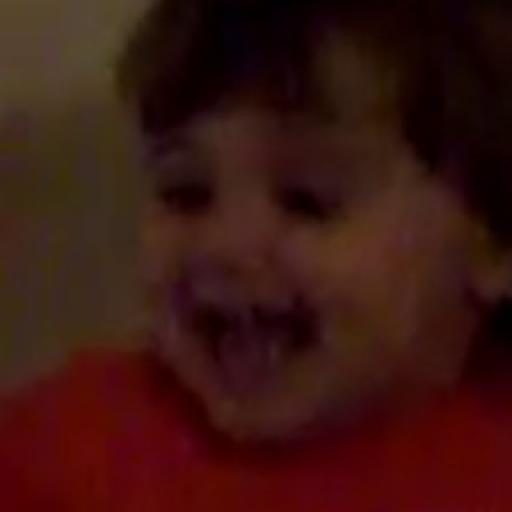Autism: (120, 27, 501, 469)
